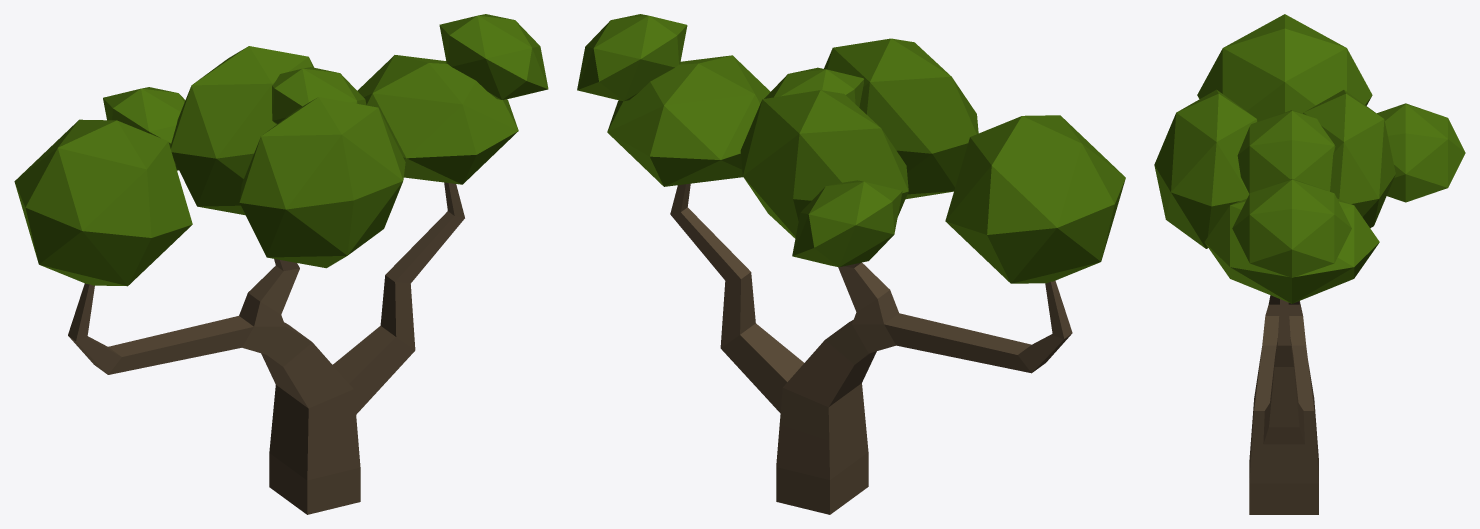
File: tree5.FBX
3 views of the same model, side by side, from view 1: azimuth 30°, elevation 25°; view 2: azimuth 150°, elevation 25°; view 3: azimuth 270°, elevation 25° (orthographic). The views are drawn at different scales.
Parts seen in each view (by area): view 1: tree5; view 2: tree5; view 3: tree5.
Boxes of the visible parts, box(x1,y1,x2,y2) form: tree5: box(14, 14, 548, 514); tree5: box(577, 14, 1125, 514); tree5: box(1154, 14, 1465, 514).
Bounding box in the file's own units: 17.16 × 13.75 × 9.75.
